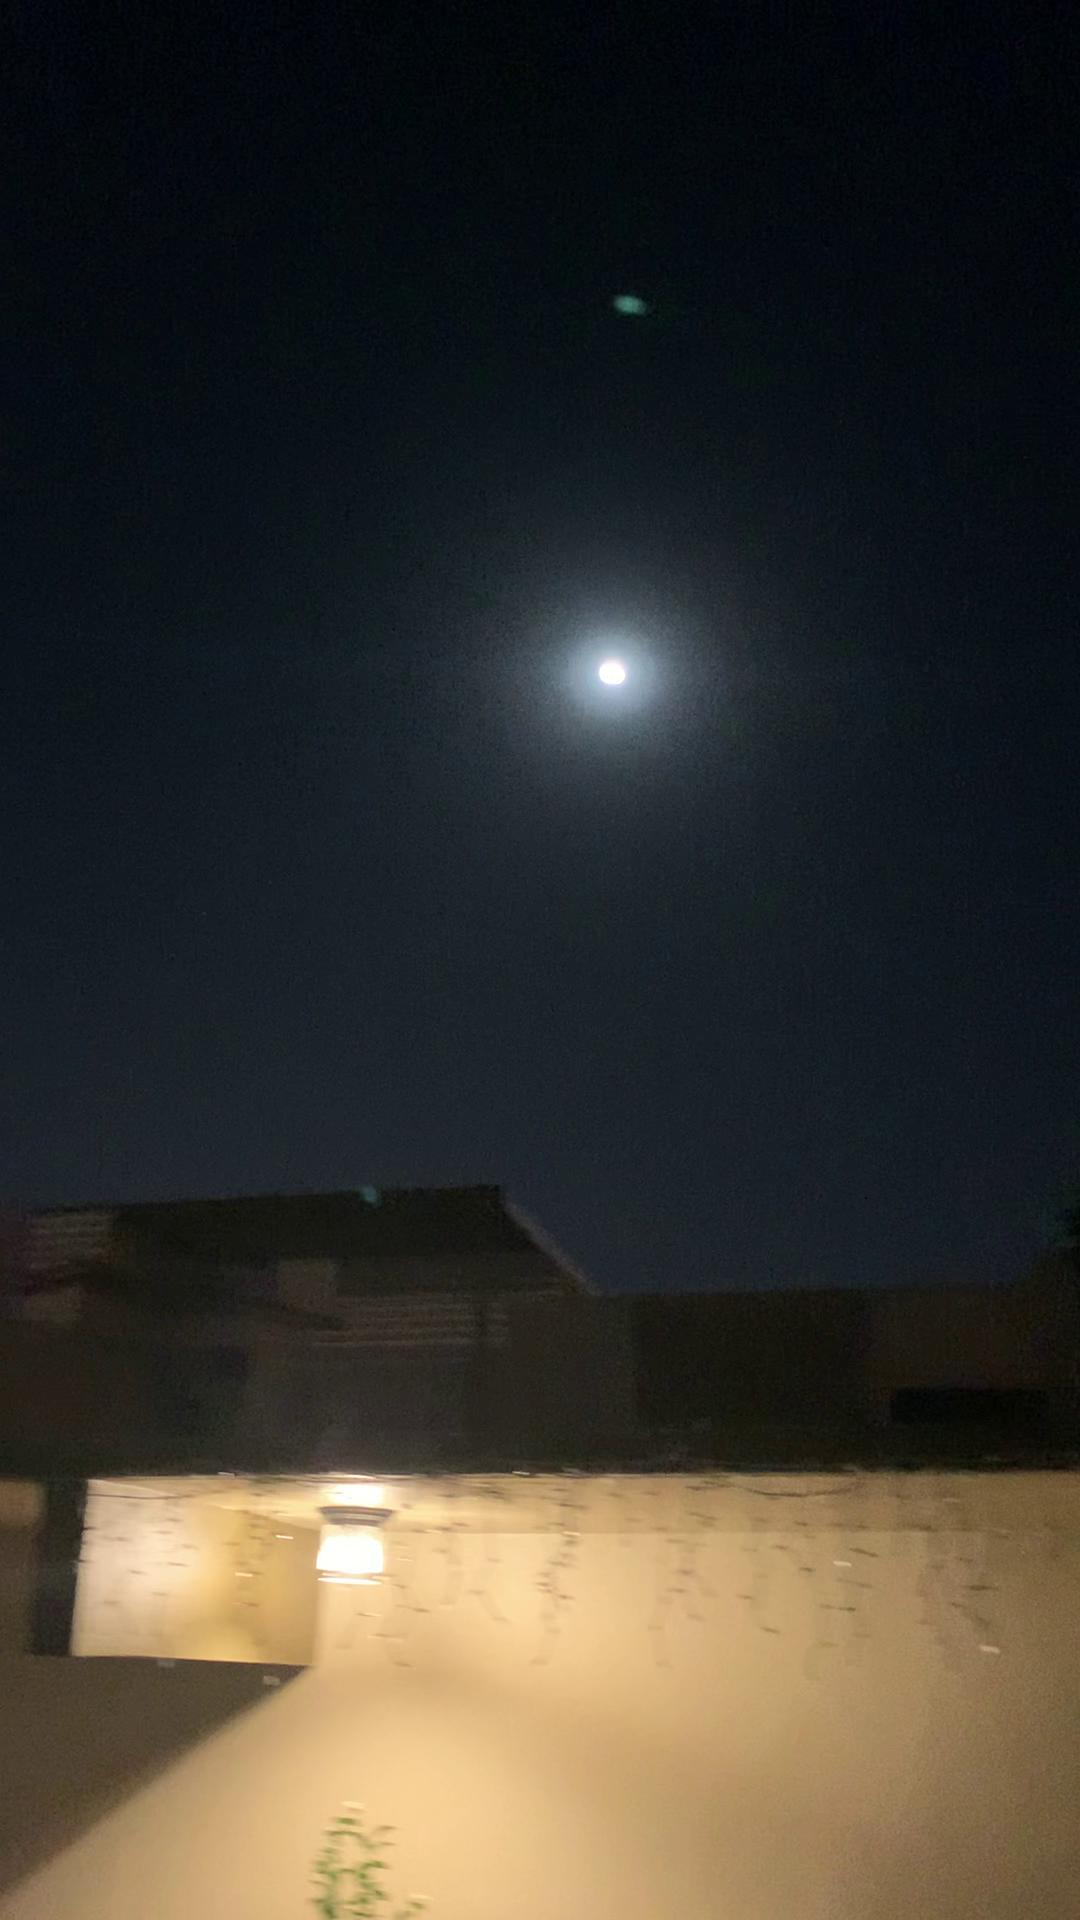moon: (588, 633, 674, 712)
